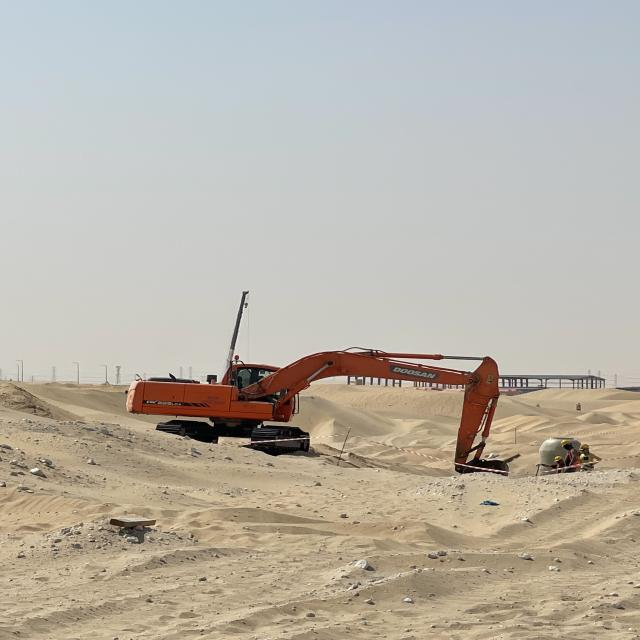excavator: (120, 340, 506, 472)
